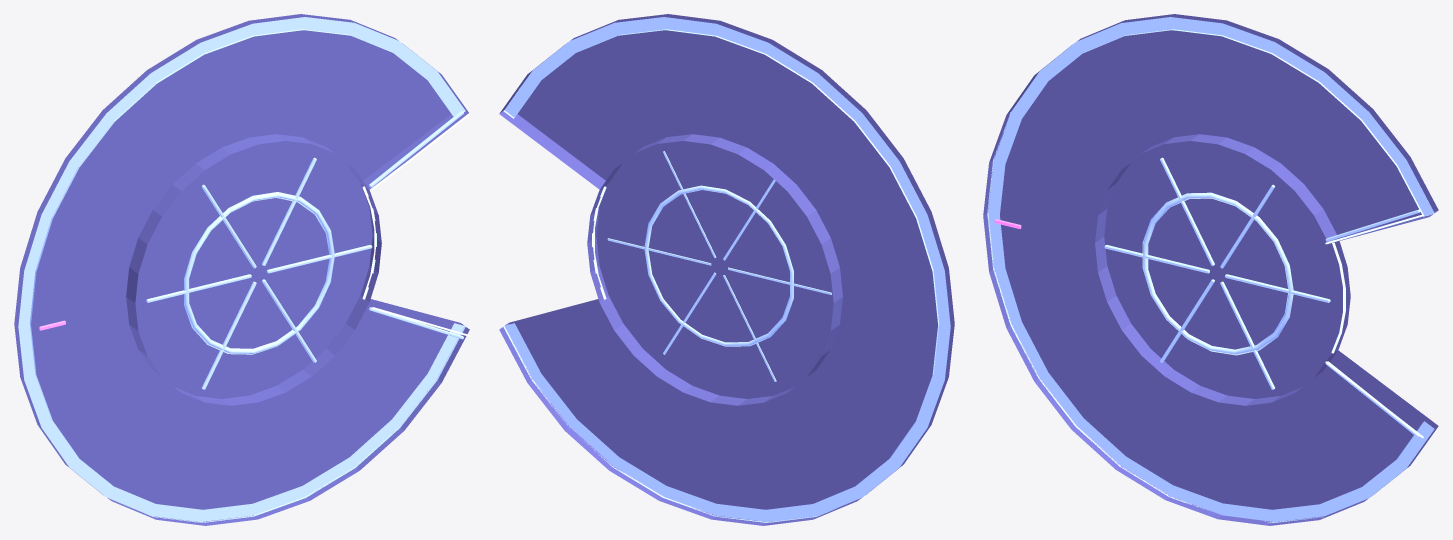
The model's file is prism-panel-fun7-low.glb.
3 views of the same model, side by side, from view 1: azimuth 30°, elevation 25°; view 2: azimuth 150°, elevation 25°; view 3: azimuth 330°, elevation 25° (orthographic).
Parts seen in each view (by area): view 1: RENDER_PANEL_SHELL, RENDER_PANEL_FRAME, RENDER_PANEL_SIGNAL; view 2: RENDER_PANEL_SHELL, RENDER_PANEL_FRAME; view 3: RENDER_PANEL_SHELL, RENDER_PANEL_FRAME, RENDER_PANEL_SIGNAL.
Part boxes in pixels (x1=…): RENDER_PANEL_SHELL: x1=14, y1=14, x2=469, y2=525; RENDER_PANEL_FRAME: x1=18, y1=17, x2=465, y2=522; RENDER_PANEL_SIGNAL: x1=362, y1=113, x2=470, y2=336; RENDER_PANEL_SHELL: x1=499, y1=14, x2=954, y2=525; RENDER_PANEL_FRAME: x1=503, y1=17, x2=950, y2=522; RENDER_PANEL_SHELL: x1=983, y1=14, x2=1438, y2=525; RENDER_PANEL_FRAME: x1=987, y1=17, x2=1434, y2=522; RENDER_PANEL_SIGNAL: x1=1325, y1=214, x2=1423, y2=438.
Size of what is drawn, in the model's own units: 38.93 by 41 by 1.95.
